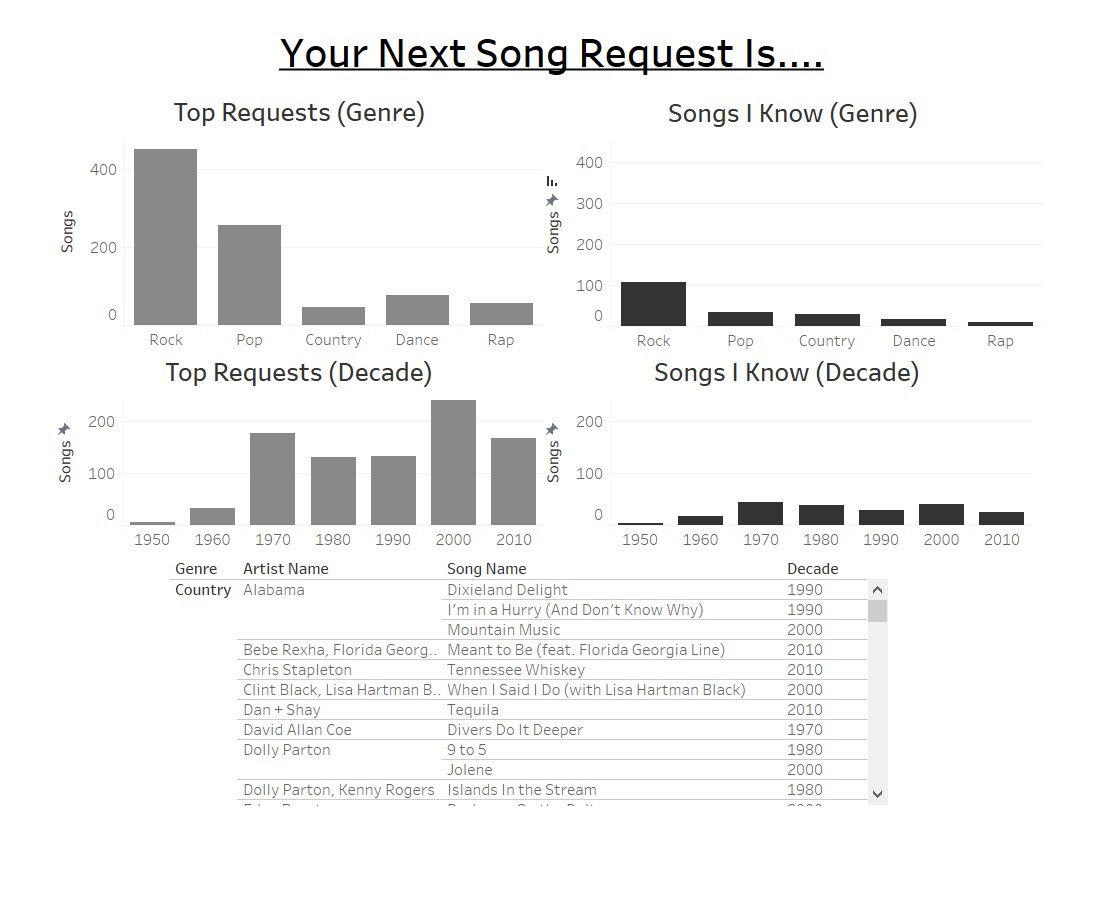

The page's visual inventory and layout, read from the dashboard file:
{"tool":"tableau","page":{"name":"Presentation (2)","canvas":[1000,800],"ordinal":5},"visuals":[{"type":"worksheet","box":[83,4,846,71]},{"type":"worksheet","title":"Master GenreBar","mark":"Automatic","rows":["Genre"],"cols":["Genre"],"box":[10,79,487,260]},{"type":"worksheet","title":"Rob Genre BarChart","mark":"Automatic","rows":["Genre (Rob Song List)"],"cols":["Genre (Rob Song List)"],"box":[496,80,502,260]},{"type":"worksheet","title":"Master DecadeBar","mark":"Automatic","rows":["Decade"],"cols":["Decade"],"box":[8,339,490,200]},{"type":"worksheet","title":"RSD","mark":"Automatic","rows":["Decade (Rob Song List)"],"cols":["Decade (Rob Song List)"],"box":[496,339,490,200]},{"type":"worksheet","title":"Master List","mark":"Polygon","rows":["Genre","Artist Name","Song Name","Decade"],"box":[123,539,748,247]}]}

Visuals, with their boxes in screenshot pixels (x1, y1, x2, y2), scaled from the page's 1000x800 canvas onto the 1117x913 screenshot:
worksheet: detection(93, 5, 1038, 86)
"Master GenreBar" worksheet: detection(11, 90, 555, 387)
"Rob Genre BarChart" worksheet: detection(554, 91, 1115, 388)
"Master DecadeBar" worksheet: detection(9, 387, 556, 615)
"RSD" worksheet: detection(554, 387, 1101, 615)
"Master List" worksheet (Polygon marks): detection(137, 615, 973, 897)
